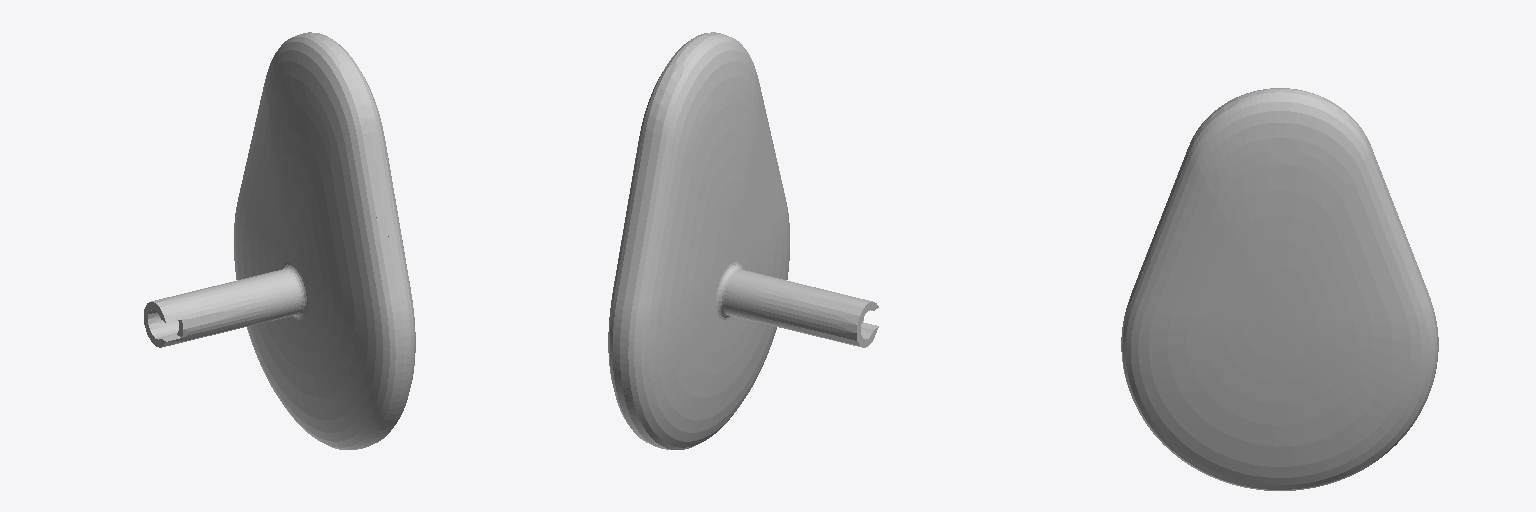
The model's file is right_ear.obj.
The picture shows the model from 3 angles: view 1: azimuth 30°, elevation 25°; view 2: azimuth 150°, elevation 25°; view 3: azimuth 270°, elevation 25°; orthographic projection.
Size of the model in its own units: 0.038 by 0.072 by 0.052.